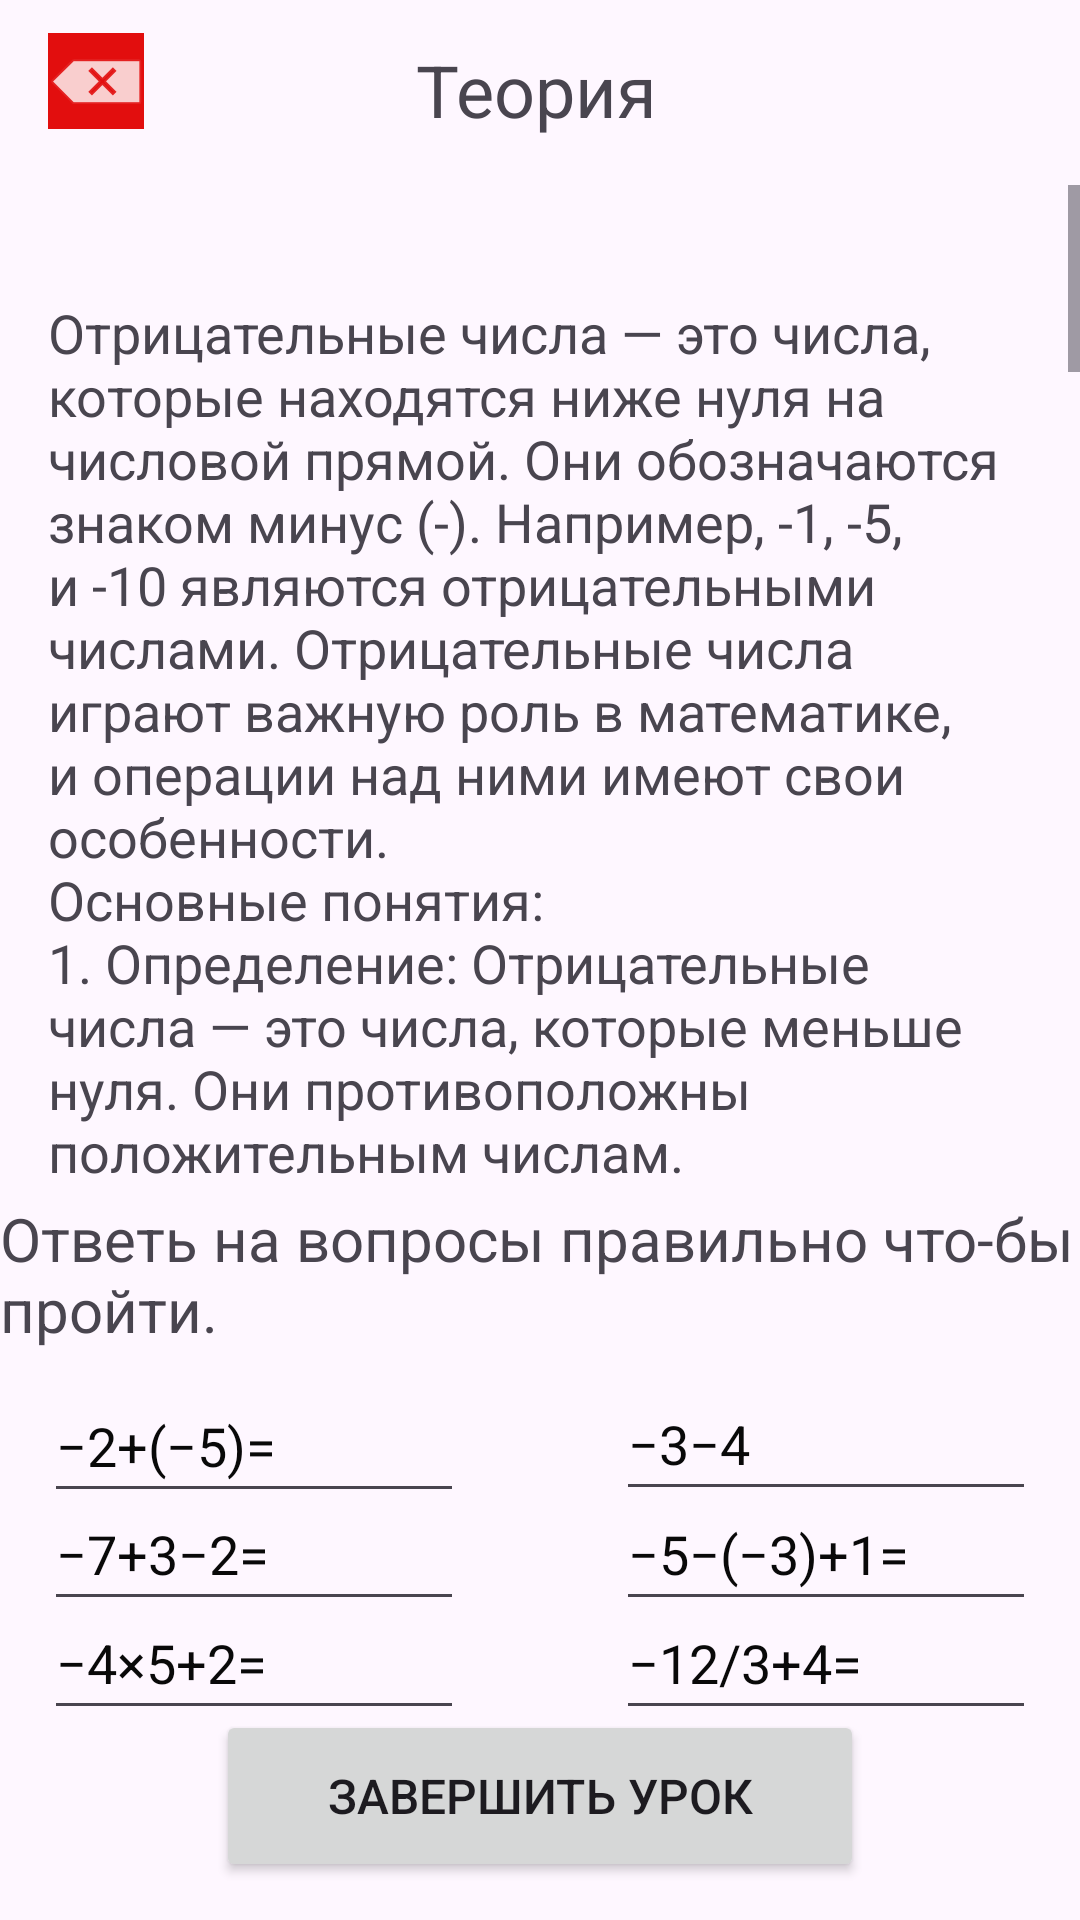

Point at icon controls on the screen. Image size 1080px×1920px, points as [x,y].
delete: [96,81]
